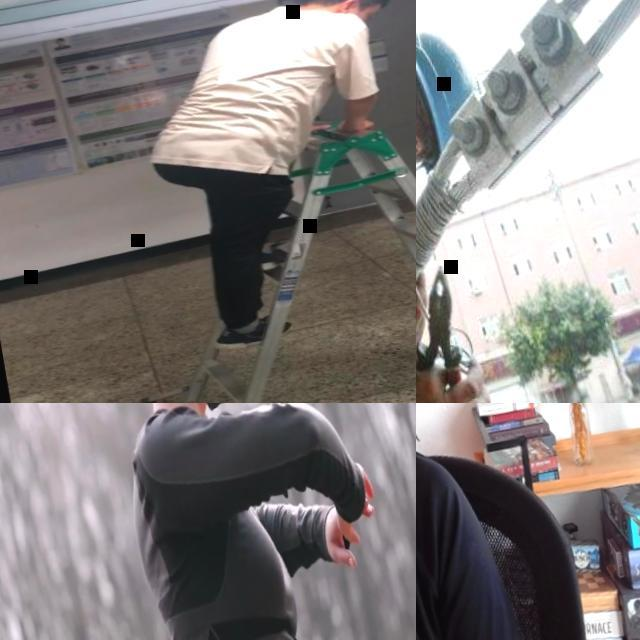Helmet: (421, 19, 478, 187)
Robbery: (150, 0, 381, 352), (127, 402, 387, 640), (416, 416, 511, 640)
